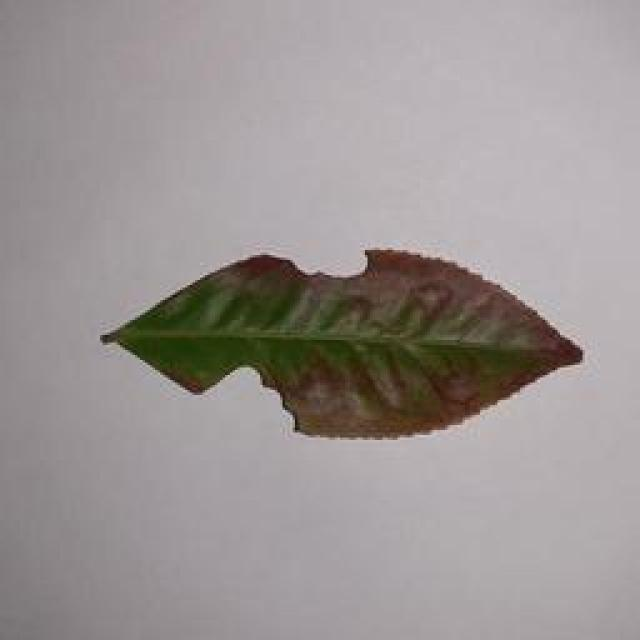Red Leaf Spot: (90, 242, 640, 450)
